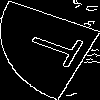T: (24, 24, 96, 73)
